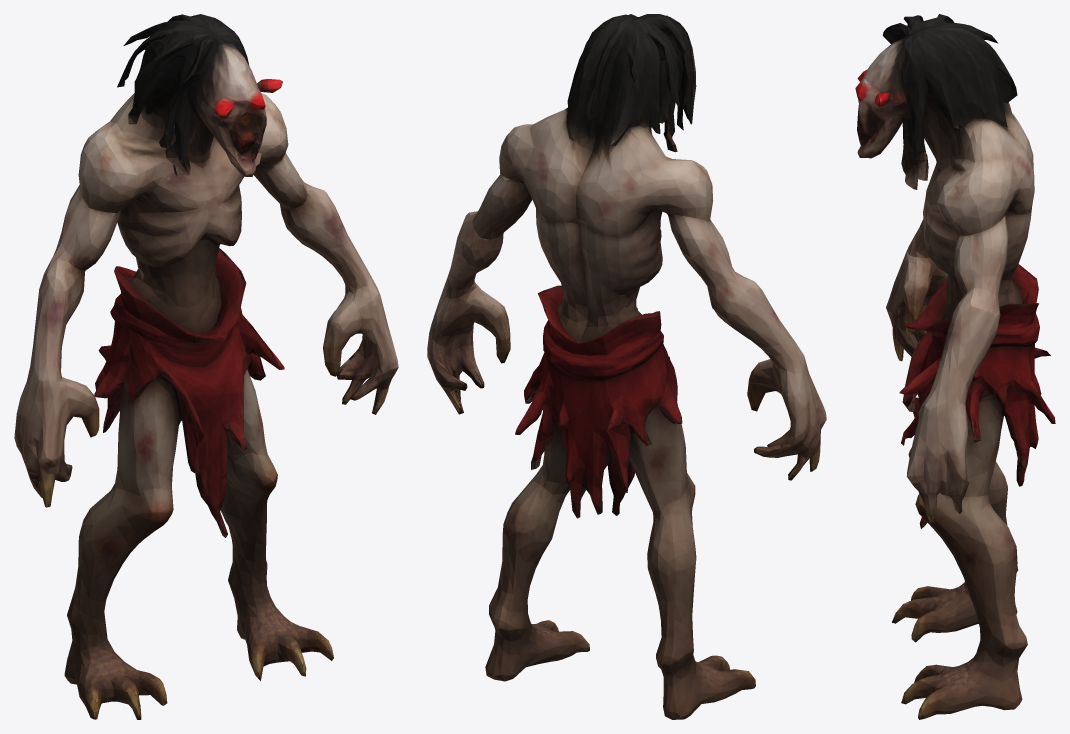
File: zombie_fast.glb
3 views of the same model, side by side, from view 1: azimuth 30°, elevation 25°; view 2: azimuth 150°, elevation 25°; view 3: azimuth 270°, elevation 25° (orthographic). The views are drawn at different scales.
Parts seen in each view (by area): view 1: geometry_0; view 2: geometry_0; view 3: geometry_0.
Part boxes in pixels (box(x1,y1,x2,y2)): geometry_0: box(14, 14, 398, 719); geometry_0: box(427, 14, 826, 719); geometry_0: box(855, 14, 1055, 719).
Bounding box in the file's own units: 0.5898 × 0.9956 × 0.2842.
Materials: 1 (1 with a texture image).
